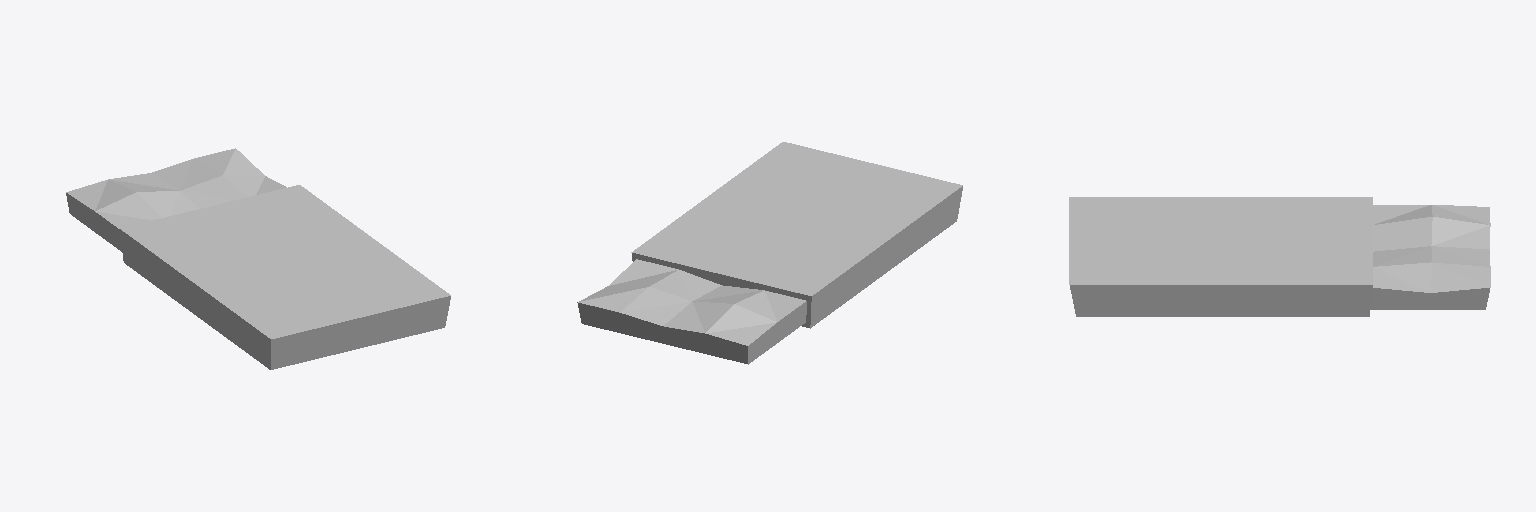
File: chocolate.obj
The picture shows the model from 3 angles: view 1: azimuth 30°, elevation 25°; view 2: azimuth 150°, elevation 25°; view 3: azimuth 270°, elevation 25°; orthographic projection.
Visible parts, largest first — view 1: Cube_Mesh; view 2: Cube_Mesh; view 3: Cube_Mesh.
Part boxes in pixels (bbox=[...]): Cube_Mesh: bbox=[66, 148, 450, 369]; Cube_Mesh: bbox=[577, 142, 962, 364]; Cube_Mesh: bbox=[1069, 197, 1490, 316].
Bounding box in the file's own units: 0.1372 × 0.0268 × 0.2776.